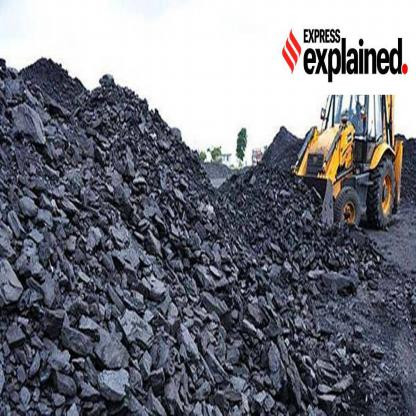Sedimentary_coal: (13, 103, 48, 153), (93, 327, 135, 368), (1, 251, 24, 308), (115, 247, 142, 281), (98, 375, 137, 398), (178, 323, 200, 359), (52, 371, 78, 398), (154, 282, 166, 305)
